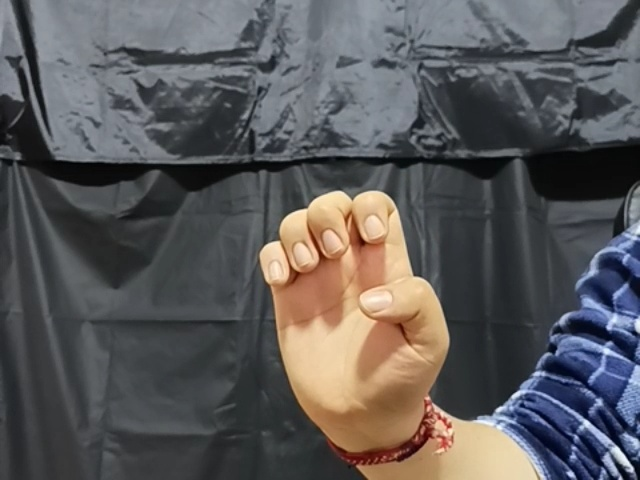E: (254, 187, 454, 431)
